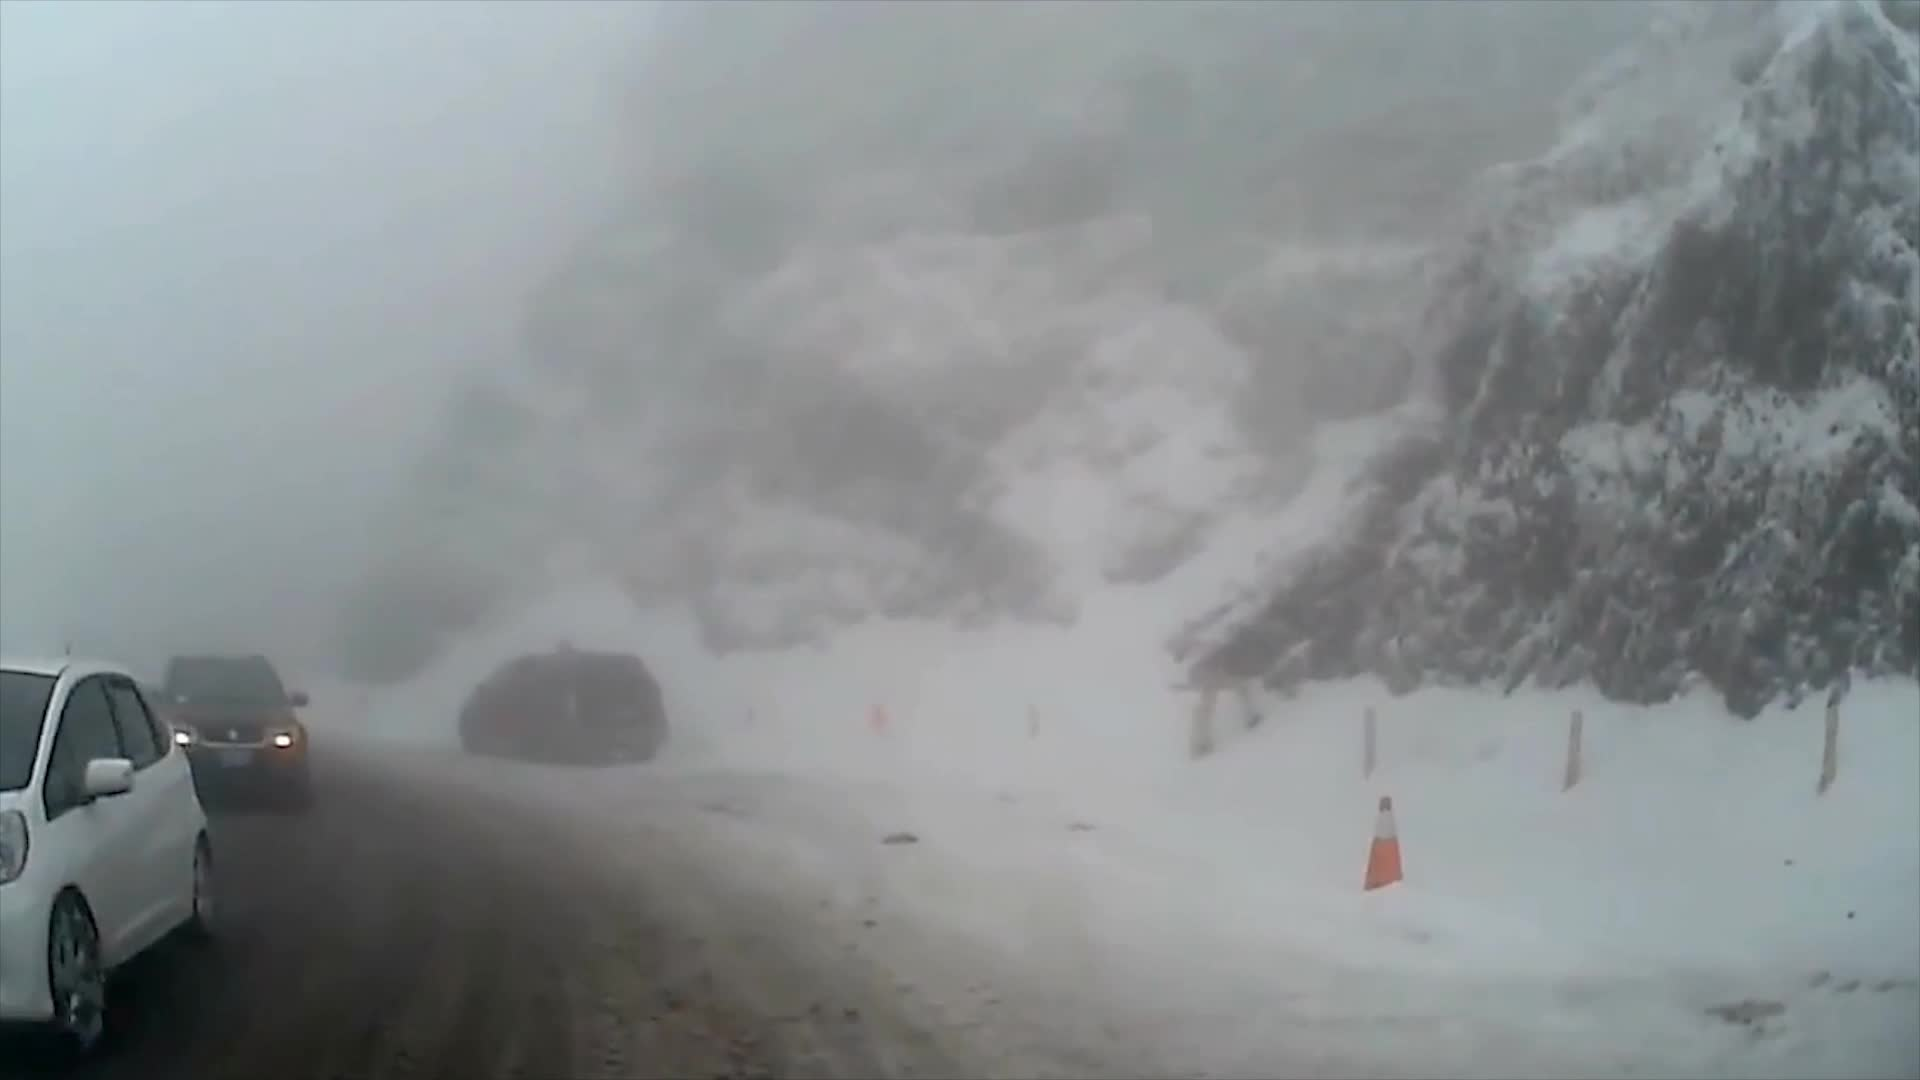vehicle: (0, 651, 222, 1063), (135, 647, 313, 812), (454, 644, 662, 762)
